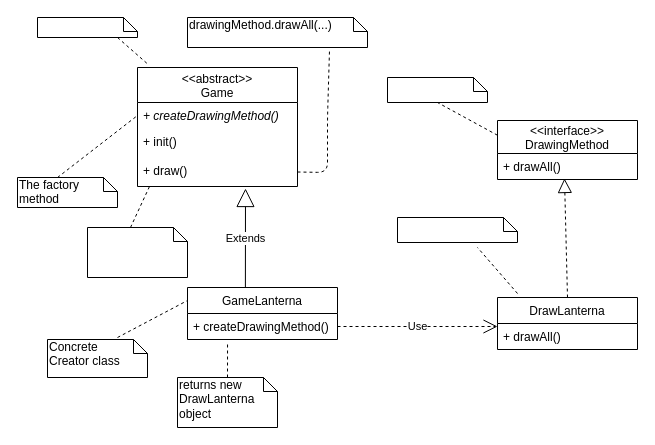
This 655x445 diagram has some shape labels left out. Here are the shapes that lost their labels. From the top down, the box of each, then its label:
(36, 16, 138, 38): Creator class
(386, 76, 488, 102): Product
(396, 216, 518, 242): Concrete Product
(86, 226, 188, 278): the method that calls the factory method
